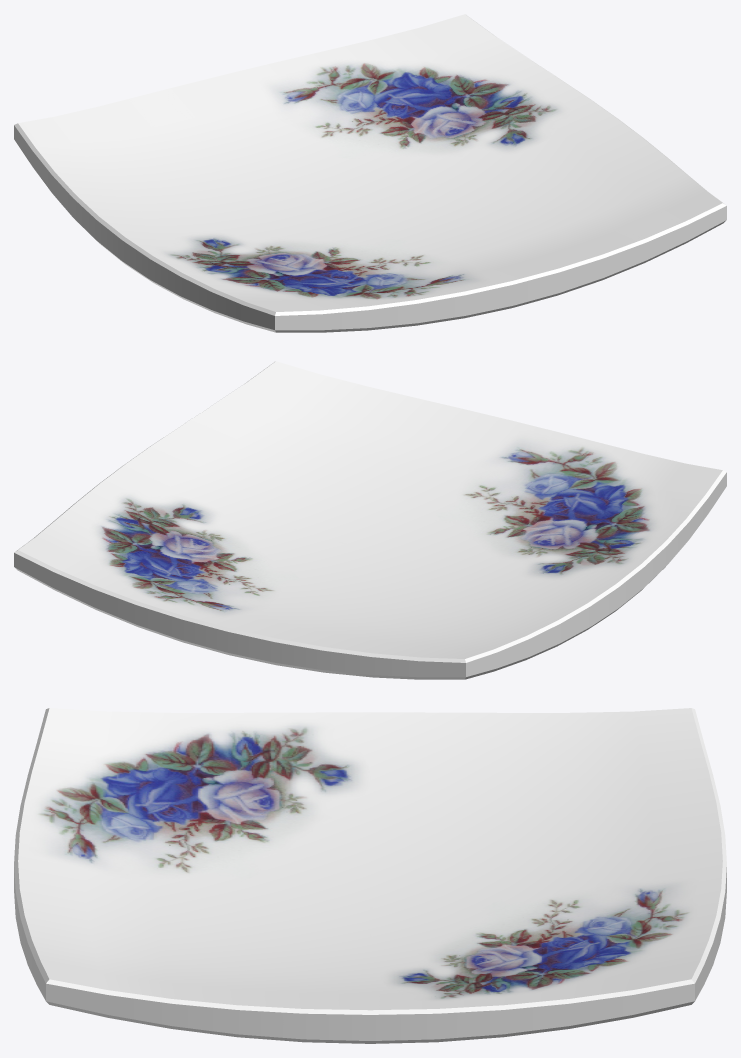
The model's file is saucer_c01.fbx.
3 renders of one model, top to bottom at view 1: azimuth 30°, elevation 25°; view 2: azimuth 150°, elevation 25°; view 3: azimuth 270°, elevation 25°, orthographic. The views are drawn at different scales.
Visible parts, largest first — view 1: saucer_c01; view 2: saucer_c01; view 3: saucer_c01.
Boxes of the visible parts, x1,y1,x2,y2 form: saucer_c01: (14,14,726,332); saucer_c01: (14,361,726,679); saucer_c01: (14,708,726,1043).
Bounding box in the file's own units: 8.07 × 1.08 × 8.07.
Materials: 1 (1 with a texture image).
